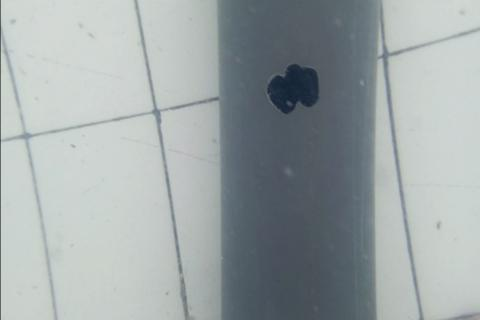kebocoran: (264, 60, 320, 117)
